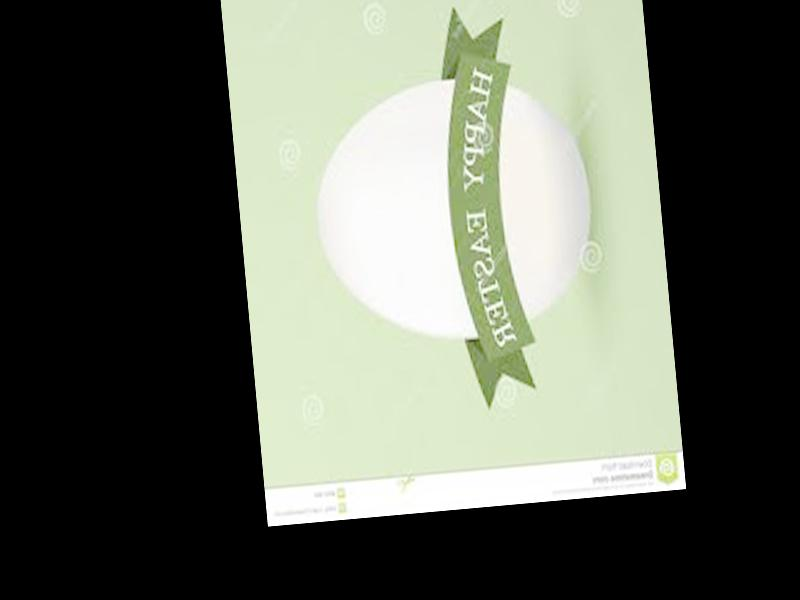Eggs: (307, 71, 600, 352)
